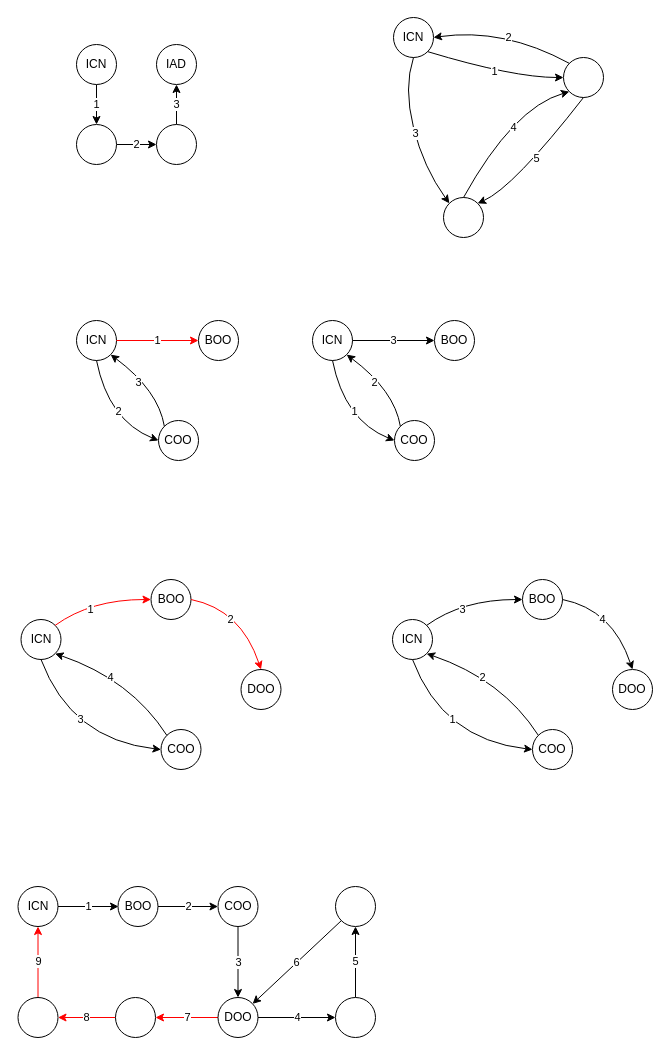
Some shapes in this 670 by 1055 pixel diagram are drawn without their labels. Here are the shapes that lost their labels. From the top down, the box of each, then its label:
(562, 56, 604, 98): ATL
(76, 124, 116, 164): JFK
(156, 124, 196, 164): HND
(442, 196, 484, 238): SFO
(334, 886, 376, 926): HOO
(17, 996, 58, 1038): FOO
(114, 996, 156, 1038): EOO
(334, 996, 376, 1038): GOO
